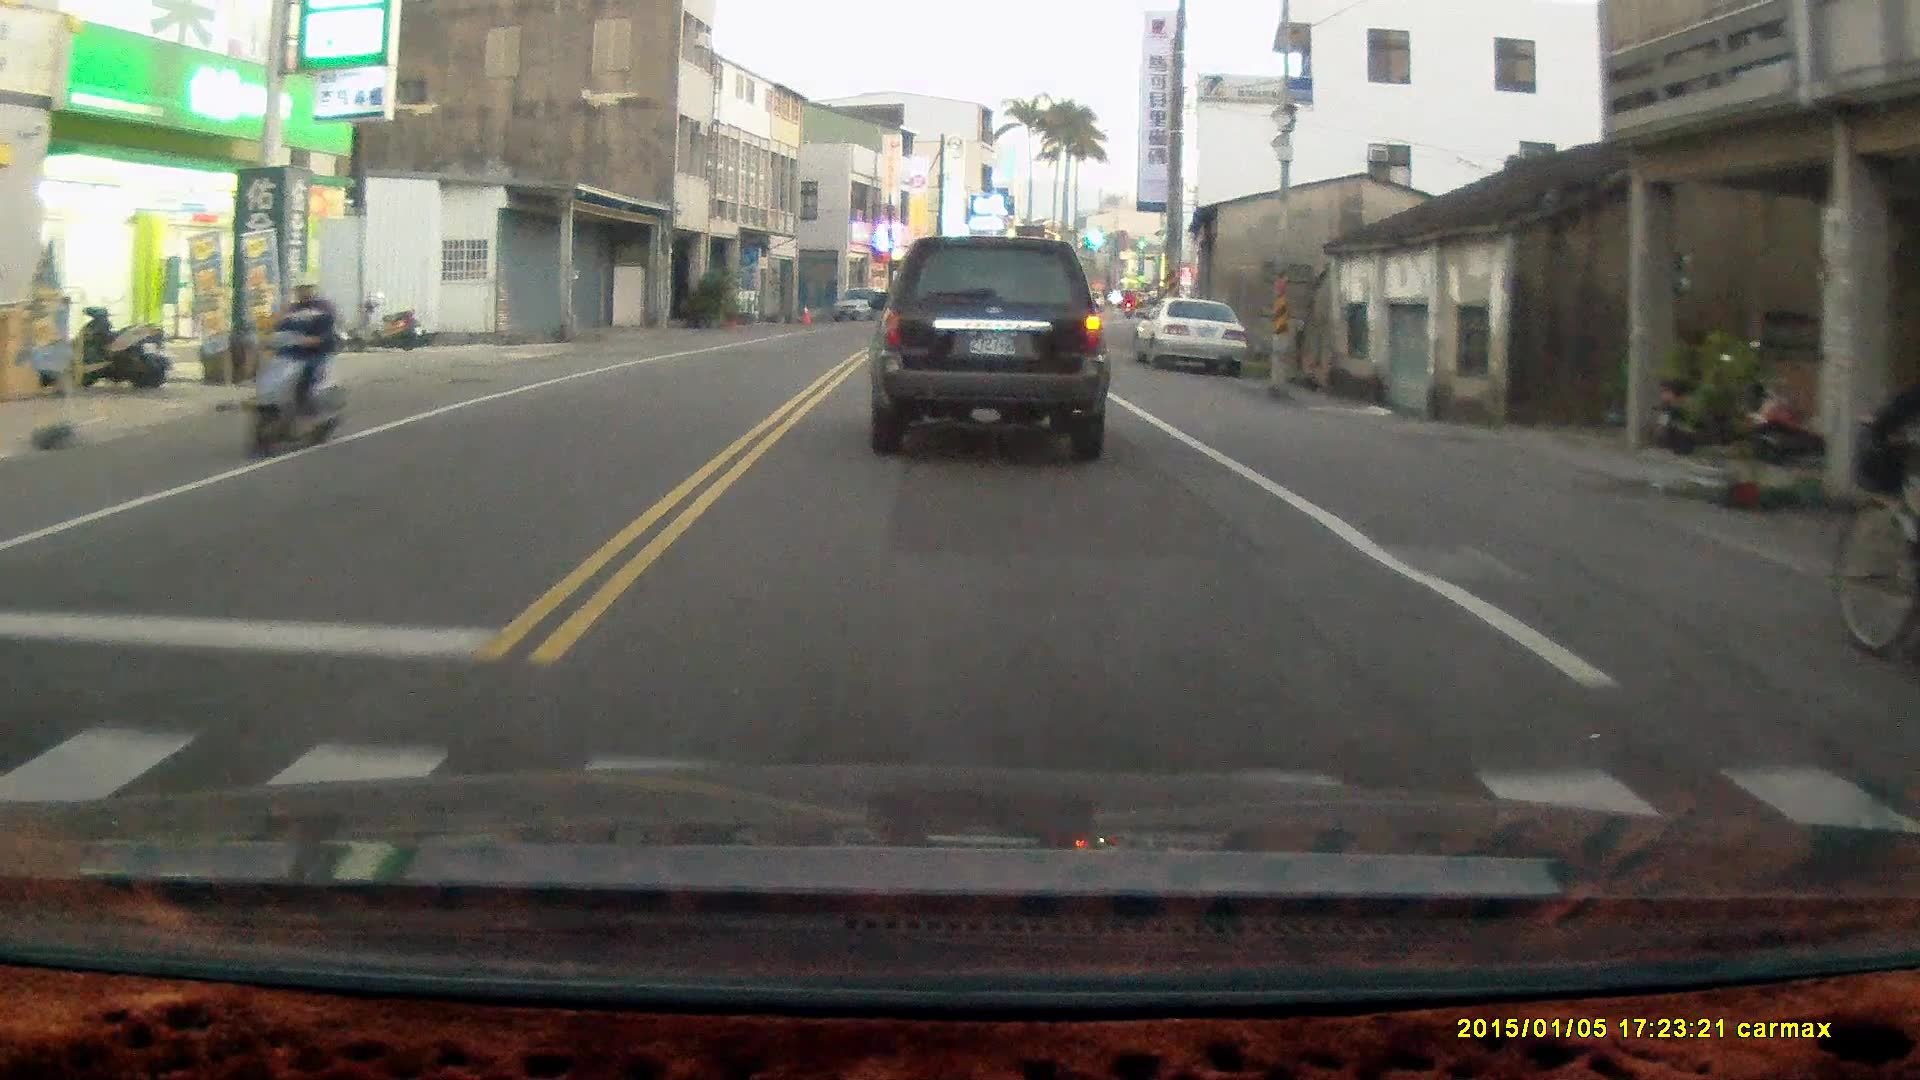rider: (1834, 355, 1920, 664), (239, 271, 342, 463)
vehicle: (869, 232, 1114, 458), (1137, 299, 1247, 375)
